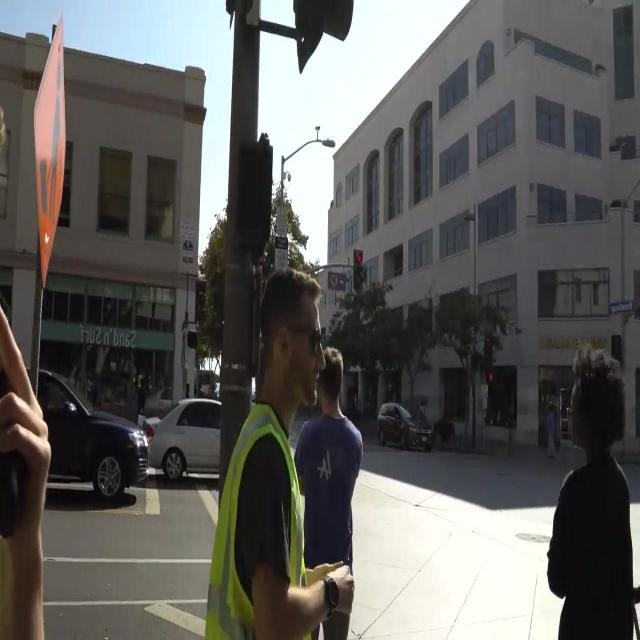Reflective-Jacket: (191, 398, 323, 640)
